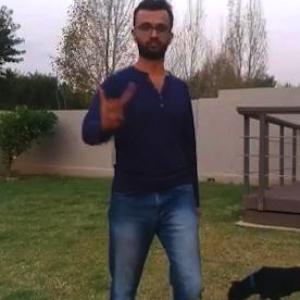takeoff-hand: (91, 72, 137, 132)
